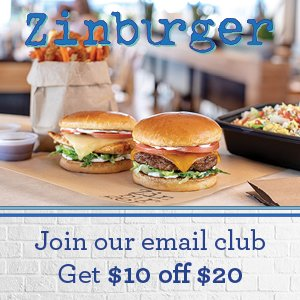sandwich: (247, 181, 280, 207)
sushi: (216, 101, 300, 172), (0, 131, 37, 161)
